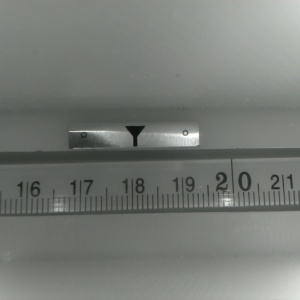0: (238, 171, 251, 191)
1: (286, 174, 293, 190), (16, 181, 23, 197), (121, 178, 128, 193), (171, 177, 178, 192), (70, 179, 76, 194)
2: (215, 171, 227, 191), (270, 174, 280, 190)
6: (30, 181, 41, 196)
7: (83, 179, 93, 194)
8: (134, 178, 144, 193)
9: (185, 177, 195, 192)
finger: (123, 125, 146, 147)
